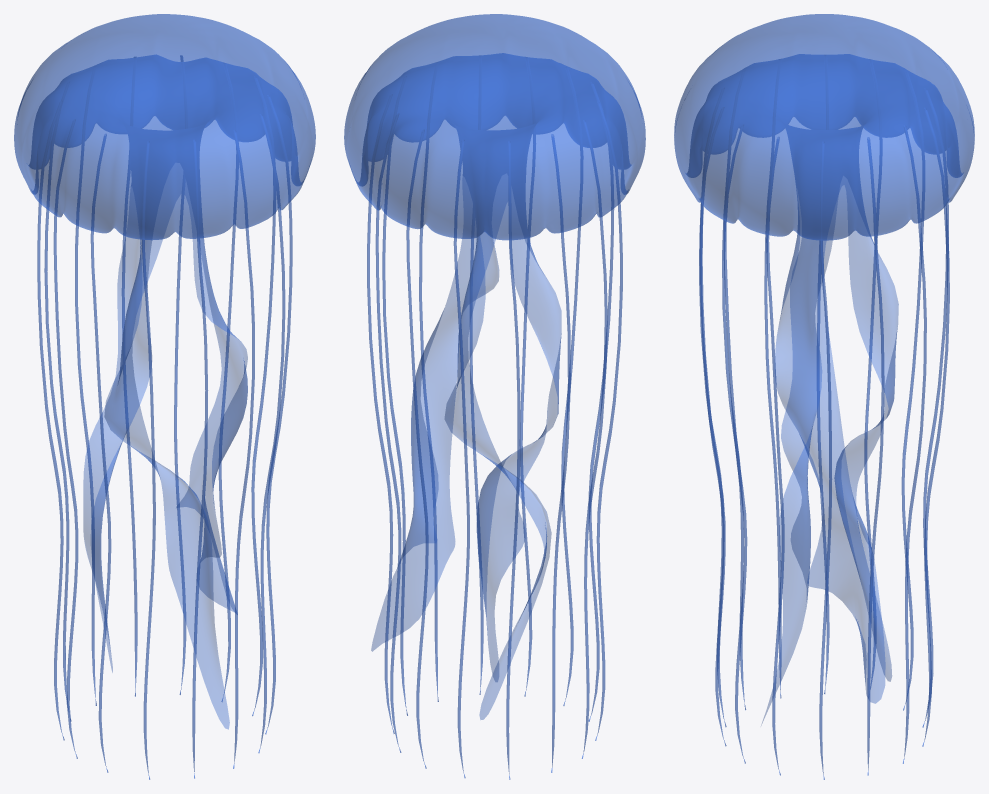
The model's file is jellyfish.glb.
The picture shows the model from 3 angles, left to right: view 1: azimuth 30°, elevation 25°; view 2: azimuth 150°, elevation 25°; view 3: azimuth 270°, elevation 25°; orthographic projection.
Visible parts, largest first — view 1: Cylinder.002_Jellyfish3_0, BezierCurve.002_Jellyfish3_0; view 2: Cylinder.002_Jellyfish3_0, BezierCurve.002_Jellyfish3_0; view 3: Cylinder.002_Jellyfish3_0, BezierCurve.002_Jellyfish3_0.
Part boxes in pixels (x1=…): Cylinder.002_Jellyfish3_0: x1=14, y1=14, x2=315, y2=729; BezierCurve.002_Jellyfish3_0: x1=37, y1=55, x2=292, y2=779; Cylinder.002_Jellyfish3_0: x1=344, y1=14, x2=645, y2=719; BezierCurve.002_Jellyfish3_0: x1=367, y1=55, x2=622, y2=779; Cylinder.002_Jellyfish3_0: x1=674, y1=14, x2=974, y2=725; BezierCurve.002_Jellyfish3_0: x1=699, y1=55, x2=949, y2=779.
Size of the model in its own units: 1.03 by 2.66 by 1.03.
